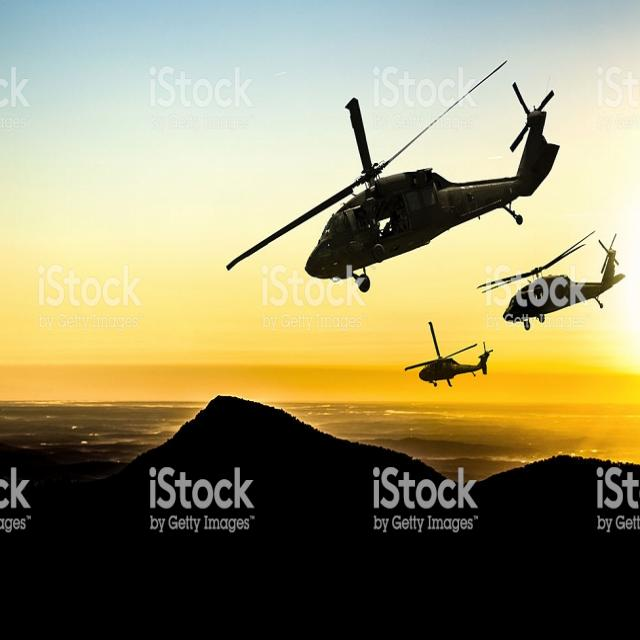helicopter: (219, 64, 565, 295), (484, 233, 631, 324), (403, 322, 499, 384)
